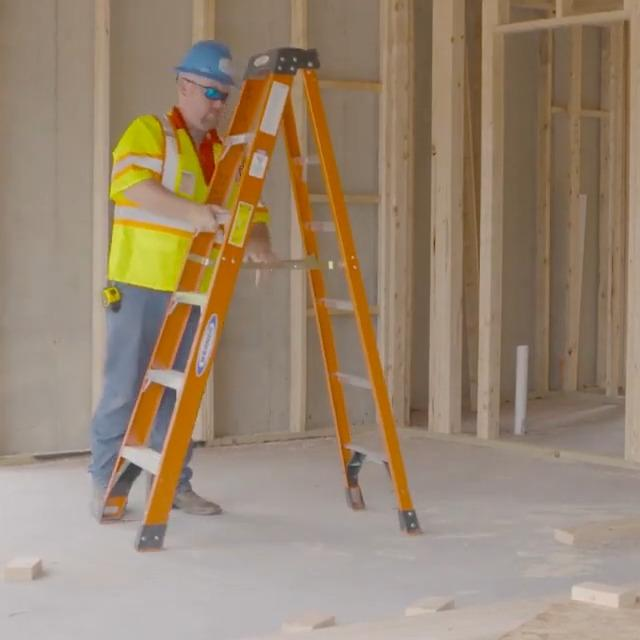Hardhat: (176, 39, 236, 85)
Ladder: (99, 46, 420, 550)
NO-Mask: (182, 97, 219, 128)
Person: (87, 40, 237, 522)
Safety Vest: (110, 108, 269, 242)
